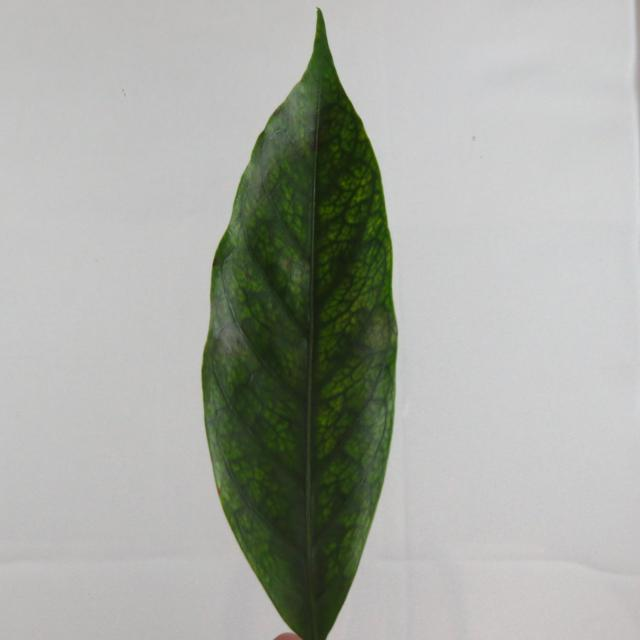DeficienciaNutricional-Manganeso: (202, 10, 398, 638)
